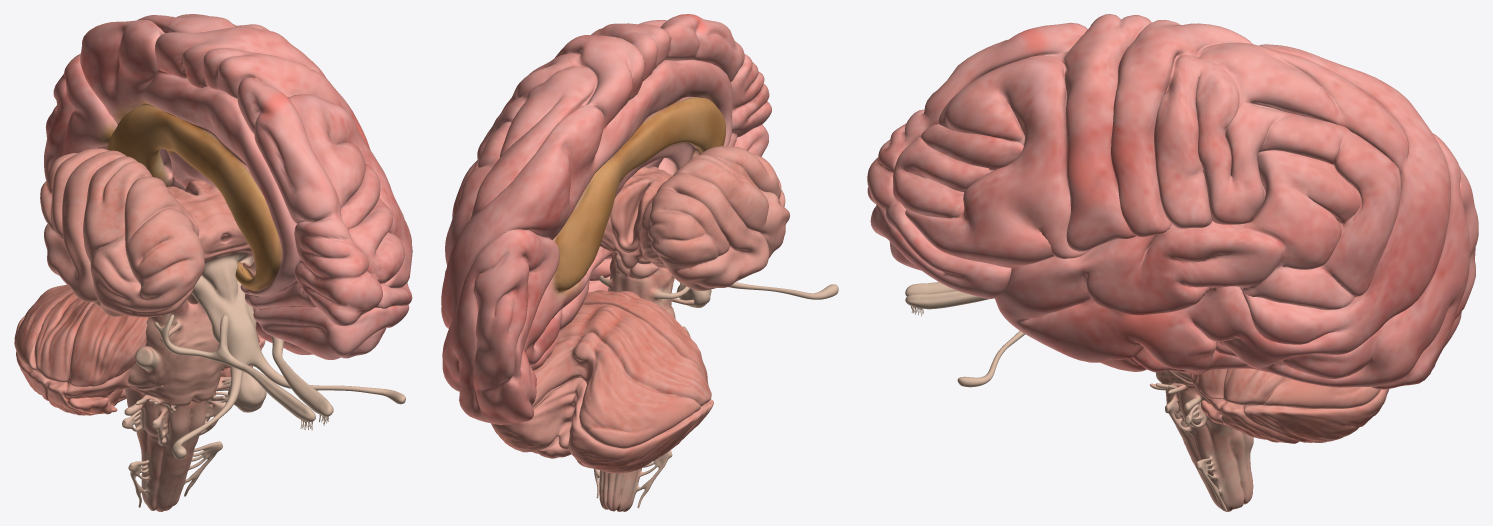
File: adult_brain1.glb
3 views of the same model, side by side, from view 1: azimuth 30°, elevation 25°; view 2: azimuth 150°, elevation 25°; view 3: azimuth 270°, elevation 25° (orthographic). The views are drawn at different scales.
Parts seen in each view (by area): view 1: Brain_left_hemisphere_Brain_left_hemisphere_M_0, Brain_stem_Brain_stem_M_0, Cerebellum_Cerebellum_M_0, Olfactory_nerve_Olfactory_nerve_M_0; view 2: Brain_left_hemisphere_Brain_left_hemisphere_M_0, Cerebellum_Cerebellum_M_0, Brain_stem_Brain_stem_M_0; view 3: Brain_left_hemisphere_Brain_left_hemisphere_M_0, Cerebellum_Cerebellum_M_0, Brain_stem_Brain_stem_M_0, Olfactory_nerve_Olfactory_nerve_M_0.
Part boxes in pixels (box(x1,y1,x2,y2)): Brain_left_hemisphere_Brain_left_hemisphere_M_0: box(44, 14, 412, 359); Brain_stem_Brain_stem_M_0: box(40, 148, 405, 511); Cerebellum_Cerebellum_M_0: box(14, 284, 265, 415); Olfactory_nerve_Olfactory_nerve_M_0: box(154, 314, 333, 429); Brain_left_hemisphere_Brain_left_hemisphere_M_0: box(441, 14, 771, 424); Cerebellum_Cerebellum_M_0: box(491, 290, 713, 473); Brain_stem_Brain_stem_M_0: box(594, 145, 838, 511); Brain_left_hemisphere_Brain_left_hemisphere_M_0: box(867, 14, 1478, 389); Cerebellum_Cerebellum_M_0: box(1189, 368, 1389, 443); Brain_stem_Brain_stem_M_0: box(957, 331, 1253, 511); Olfactory_nerve_Olfactory_nerve_M_0: box(905, 282, 989, 316).
Size of what is drawn, in the model's own units: 0.0408 by 0.0663 by 0.0734.
5 materials, 4 textured.
